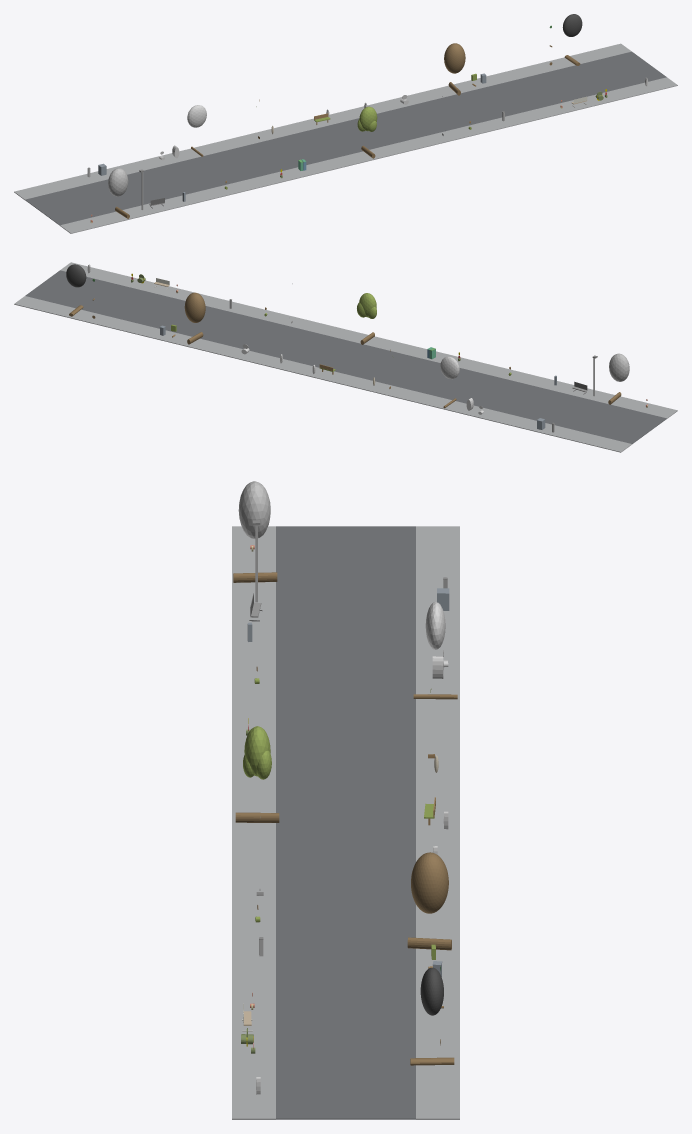
3 renders of one model, top to bottom at view 1: azimuth 30°, elevation 25°; view 2: azimuth 150°, elevation 25°; view 3: azimuth 270°, elevation 25°, orthographic. The views are drawn at different scales.
Parts seen in each view (by area): view 1: road_slab, sidewalk_left, sidewalk_right, inst_0015, inst_0012, inst_0014, inst_0016, inst_0013; view 2: road_slab, sidewalk_right, sidewalk_left, inst_0015, inst_0012, inst_0014, inst_0016, inst_0013; view 3: road_slab, sidewalk_left, sidewalk_right, inst_0015, inst_0012, inst_0014, inst_0016, inst_0013.
Part boxes in pixels (box(x1,y1,x2,y2)): road_slab: box(25, 51, 666, 225); sidewalk_left: box(60, 77, 677, 233); sidewalk_right: box(14, 43, 631, 199); inst_0015: box(444, 43, 465, 95); inst_0012: box(108, 168, 129, 218); inst_0014: box(357, 106, 377, 158); inst_0016: box(562, 14, 582, 65); inst_0013: box(187, 105, 206, 156); road_slab: box(25, 270, 666, 444); sidewalk_right: box(14, 296, 631, 452); sidewalk_left: box(60, 262, 677, 418); inst_0015: box(184, 292, 205, 344); inst_0012: box(608, 353, 629, 404); inst_0014: box(357, 293, 376, 344); inst_0016: box(66, 264, 86, 316); inst_0013: box(440, 356, 459, 408); road_slab: box(276, 526, 415, 1119); sidewalk_left: box(232, 526, 275, 1119); sidewalk_right: box(416, 526, 459, 1119); inst_0015: box(407, 852, 451, 950); inst_0012: box(233, 481, 277, 582); inst_0014: box(235, 726, 279, 822); inst_0016: box(410, 967, 454, 1065); inst_0013: box(413, 602, 457, 699).
Bounding box in the file's own units: 80 × 6.08 × 13.
